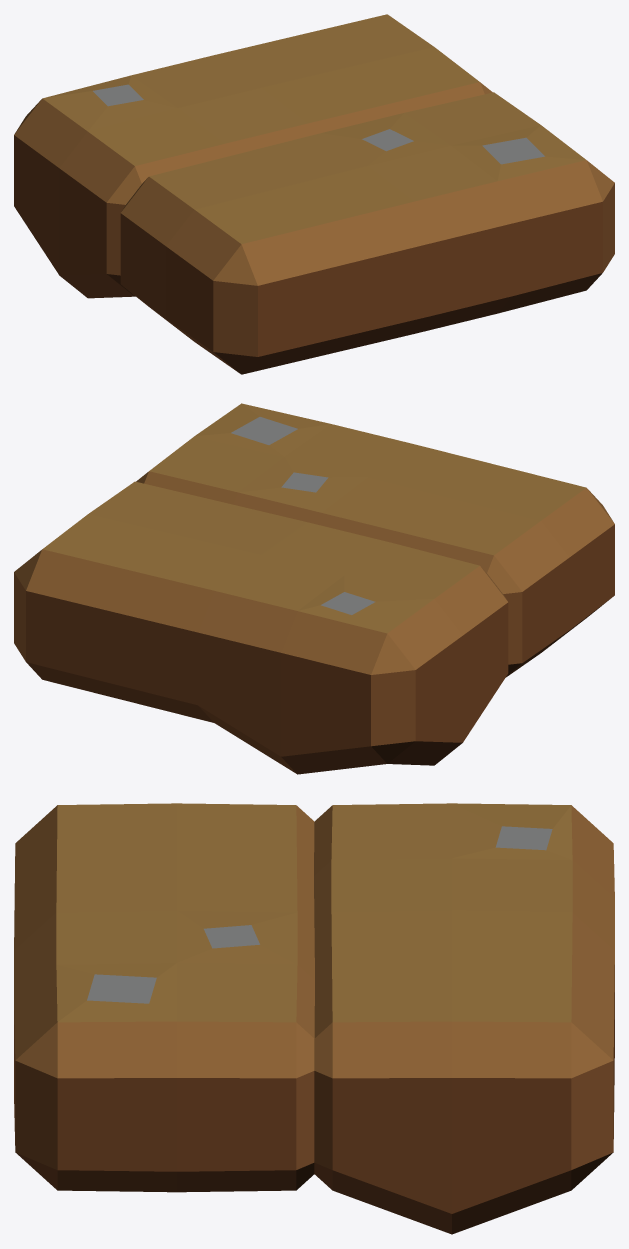
Rendered from m_kub_dirt_floorTwoBrick.FBX.
3 renders of one model, top to bottom at view 1: azimuth 30°, elevation 25°; view 2: azimuth 150°, elevation 25°; view 3: azimuth 270°, elevation 25°, orthographic. The views are drawn at different scales.
Visible parts, largest first — view 1: m_kub_dirt_floorTwoBrick; view 2: m_kub_dirt_floorTwoBrick; view 3: m_kub_dirt_floorTwoBrick.
Boxes of the visible parts, x1=… form: m_kub_dirt_floorTwoBrick: x1=14, y1=14, x2=614, y2=374; m_kub_dirt_floorTwoBrick: x1=14, y1=403, x2=614, y2=774; m_kub_dirt_floorTwoBrick: x1=14, y1=803, x2=614, y2=1234.
Bounding box in the file's own units: 2.18 × 0.8707 × 2.18.
